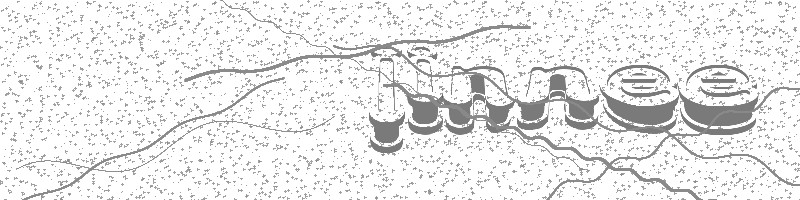e: (678, 62, 761, 134), (599, 62, 678, 136)
i: (405, 41, 445, 138)
l: (366, 44, 407, 155)
n: (514, 60, 600, 132), (443, 61, 515, 135)
